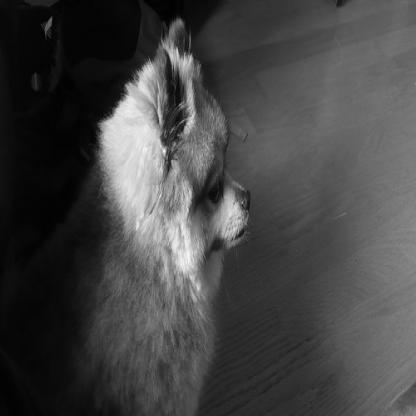dog: (2, 15, 252, 408)
